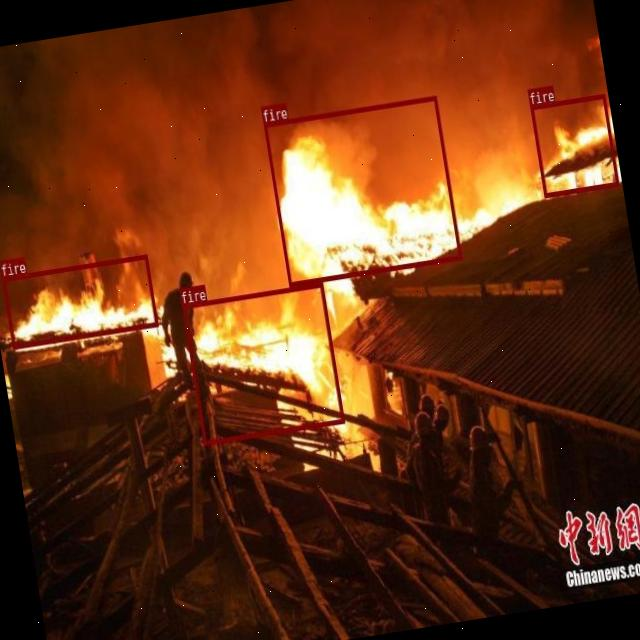fire: (262, 96, 462, 286), (182, 282, 343, 444), (1, 254, 158, 348), (530, 94, 618, 196)
